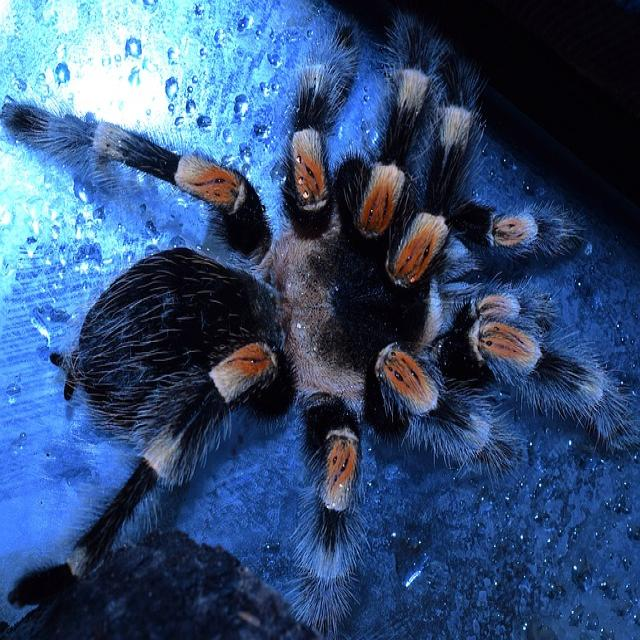spyder: (0, 22, 632, 631)
